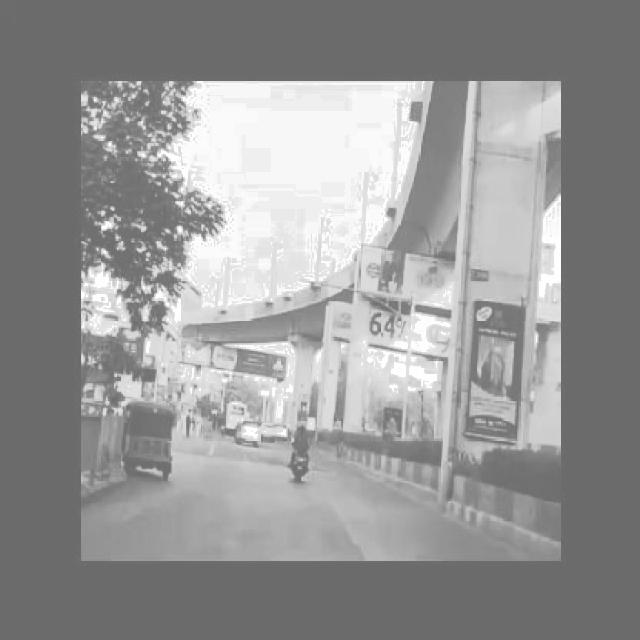Car: (232, 409, 270, 457)
